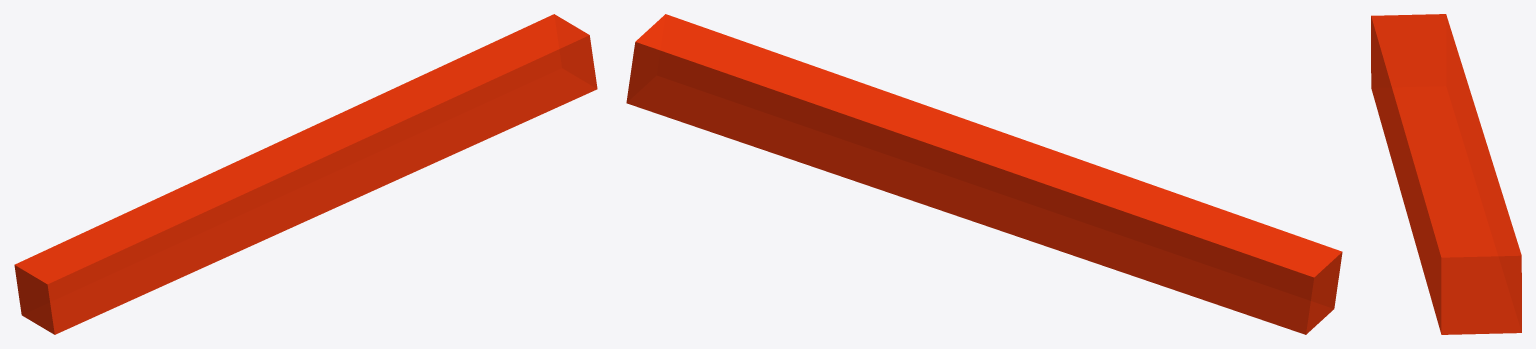
File: Event_421115418_EErechit_74.fbx
3 renders of one model, left to right at view 1: azimuth 30°, elevation 25°; view 2: azimuth 150°, elevation 25°; view 3: azimuth 270°, elevation 25°, orthographic. The views are drawn at different scales.
Parts seen in each view (by area): view 1: Model; view 2: Model; view 3: Model.
Boxes of the visible parts, x1=… form: Model: x1=14, y1=14, x2=597, y2=334; Model: x1=626, y1=14, x2=1342, y2=334; Model: x1=1371, y1=14, x2=1521, y2=334.
Bounding box in the file's own units: 0.8351 × 0.1968 × 0.1453.
